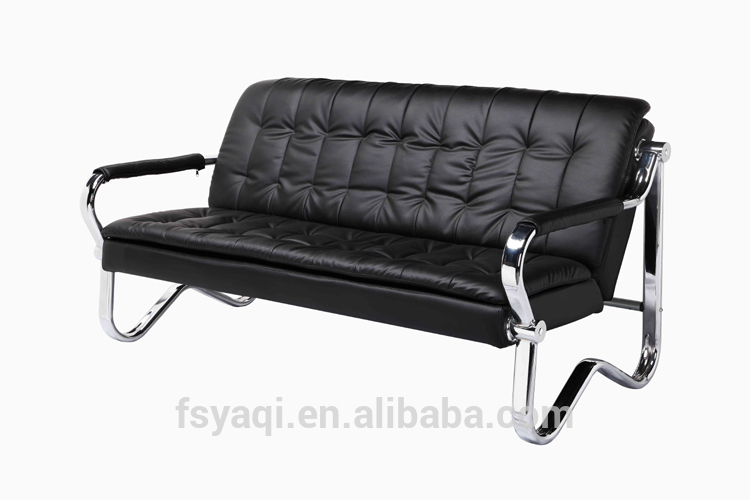chairs: (83, 74, 673, 446)
